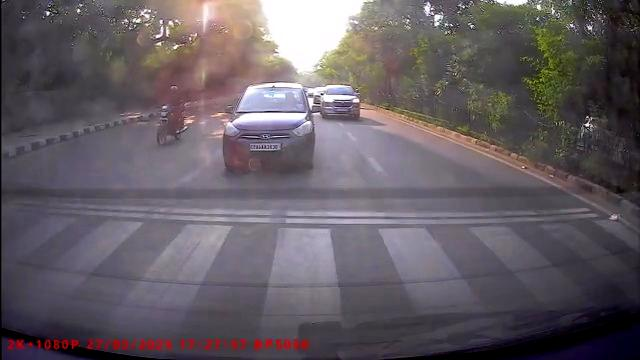motorcycle_with_helmet: (154, 84, 189, 148)
